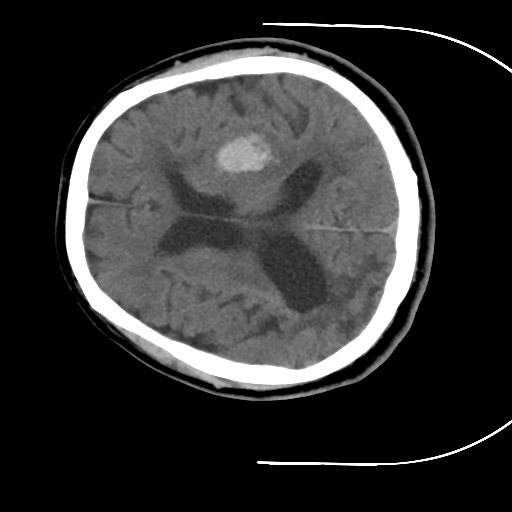a: (202, 117, 298, 187)
